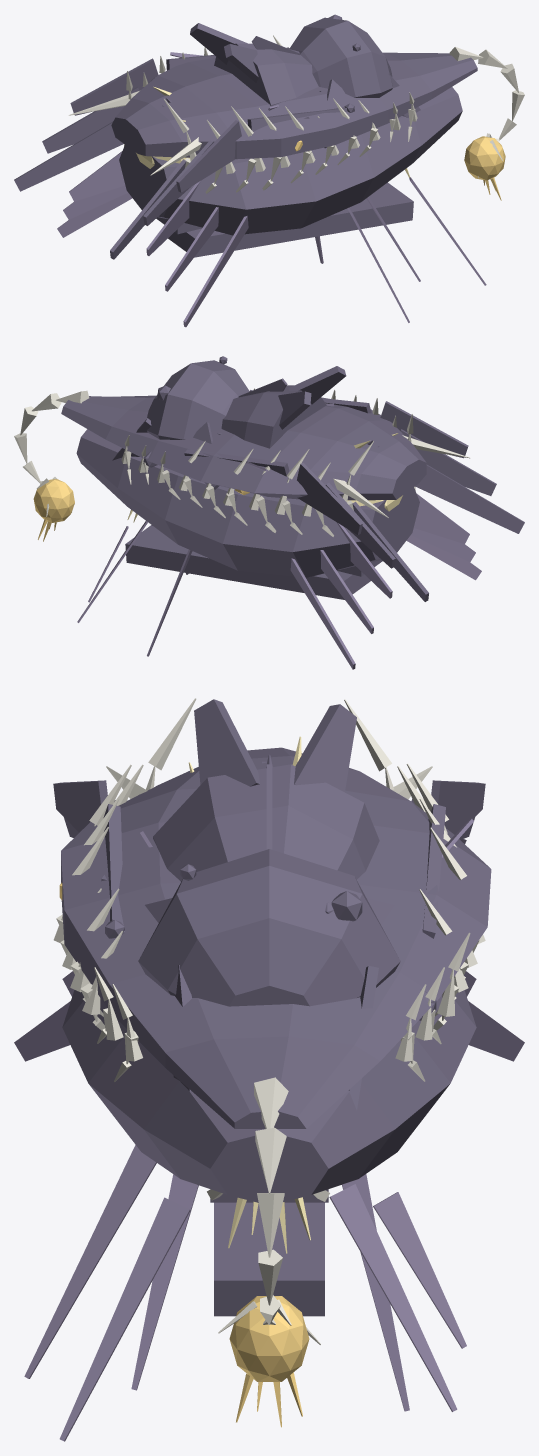
Rendered from boss_noctyss.glb.
The picture shows the model from 3 angles, top to bottom: view 1: azimuth 30°, elevation 25°; view 2: azimuth 150°, elevation 25°; view 3: azimuth 270°, elevation 25°; orthographic projection. The views are drawn at different scales.
Parts seen in each view (by area): view 1: Noctyss_Skull, Noctyss_Jaw, Noctyss_Barbels, Noctyss_StalkHood, Noctyss_StalkRoot, Noctyss_SkullBone, Noctyss_JawBone, Noctyss_Eyes; view 2: Noctyss_Skull, Noctyss_Jaw, Noctyss_Barbels, Noctyss_StalkHood, Noctyss_StalkRoot, Noctyss_SkullBone, Noctyss_JawBone, Noctyss_Eyes; view 3: Noctyss_Skull, Noctyss_Jaw, Noctyss_StalkHood, Noctyss_Barbels, Noctyss_StalkRoot, Noctyss_JawBone, Noctyss_SkullBone, Noctyss_Eyes, Noctyss_StalkBulb.
Part boxes in pixels (x1,y1,x2,y2): Noctyss_Skull: [14, 52, 477, 259]; Noctyss_Jaw: [119, 87, 462, 257]; Noctyss_Barbels: [57, 151, 486, 327]; Noctyss_StalkHood: [287, 14, 420, 148]; Noctyss_StalkRoot: [190, 23, 318, 105]; Noctyss_SkullBone: [68, 46, 524, 193]; Noctyss_JawBone: [126, 35, 417, 174]; Noctyss_Eyes: [295, 136, 505, 200]; Noctyss_Skull: [61, 395, 524, 601]; Noctyss_Jaw: [76, 429, 419, 599]; Noctyss_Barbels: [77, 494, 481, 669]; Noctyss_StalkHood: [112, 356, 252, 490]; Noctyss_StalkRoot: [221, 366, 346, 448]; Noctyss_SkullBone: [14, 390, 469, 536]; Noctyss_JawBone: [121, 388, 413, 516]; Noctyss_Eyes: [33, 479, 249, 541]; Noctyss_Skull: [53, 747, 491, 1128]; Noctyss_Jaw: [62, 990, 476, 1316]; Noctyss_StalkHood: [138, 849, 400, 1110]; Noctyss_Barbels: [14, 971, 524, 1441]; Noctyss_StalkRoot: [153, 699, 379, 881]; Noctyss_JawBone: [53, 698, 485, 1061]; Noctyss_SkullBone: [56, 766, 479, 1344]; Noctyss_Eyes: [59, 882, 309, 1427]; Noctyss_StalkBulb: [228, 1197, 310, 1253].
Size of the model in its own units: 28.7 by 17.18 by 13.81.
